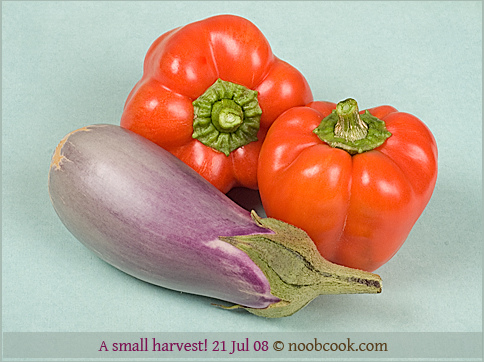capsicum: (122, 14, 315, 194), (257, 96, 436, 274)
